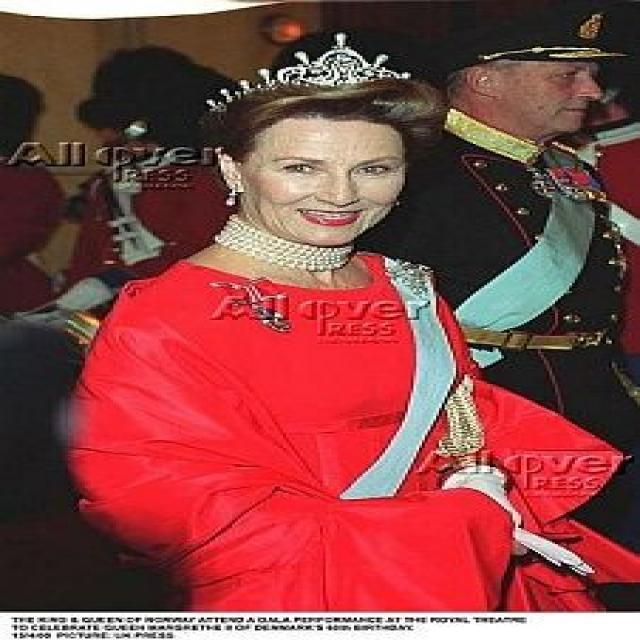Earring: (216, 182, 242, 216)
